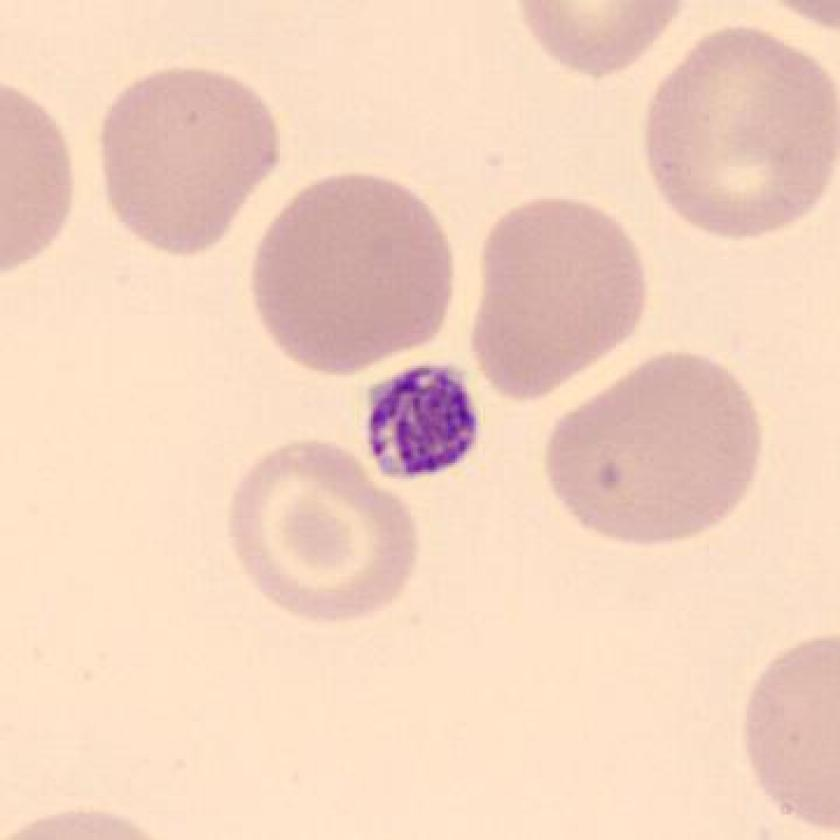platelets: (361, 357, 487, 485)
